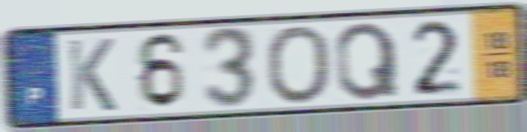2: (410, 18, 465, 98)
3: (202, 24, 259, 113)
6: (134, 31, 187, 113)
K: (64, 36, 119, 113)
O: (263, 22, 333, 106)
Q: (332, 19, 402, 103)
